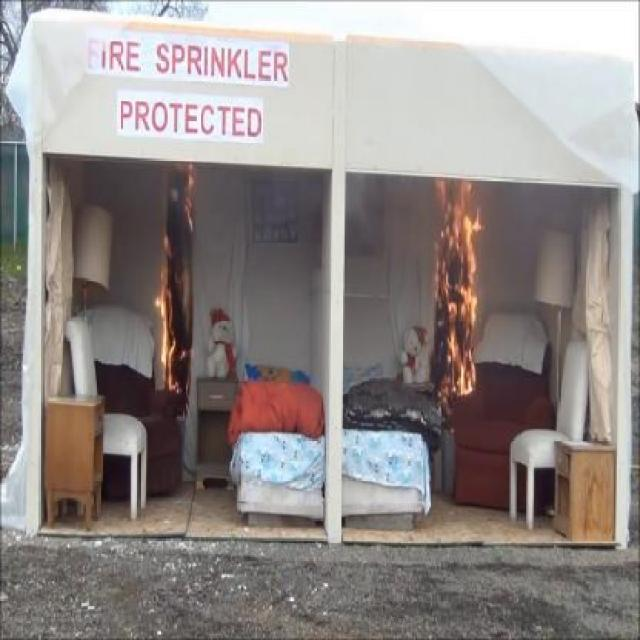fire: (411, 188, 484, 400), (164, 208, 187, 412)
